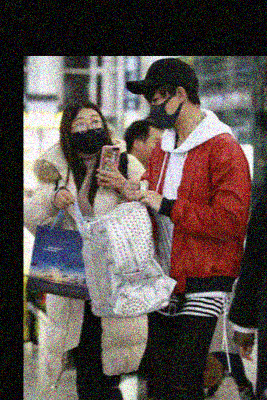with_mask: (69, 112, 107, 154), (148, 95, 176, 131)
